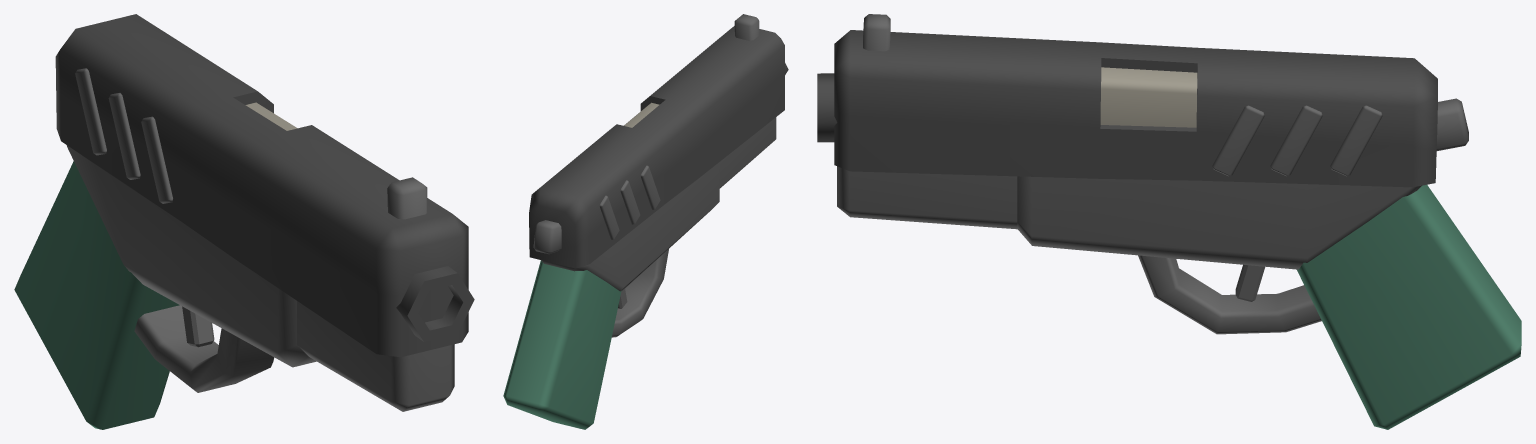
Rendered from COL_Glock.fbx.
3 views of the same model, side by side, from view 1: azimuth 30°, elevation 25°; view 2: azimuth 150°, elevation 25°; view 3: azimuth 270°, elevation 25° (orthographic). The views are drawn at different scales.
Visible parts, largest first — view 1: COL_Glock; view 2: COL_Glock; view 3: COL_Glock.
Boxes of the visible parts, x1=… form: COL_Glock: x1=14, y1=14, x2=474, y2=429; COL_Glock: x1=503, y1=14, x2=788, y2=429; COL_Glock: x1=817, y1=14, x2=1521, y2=429.
Size of the model in its own units: 10.75 by 45.94 by 73.27.
